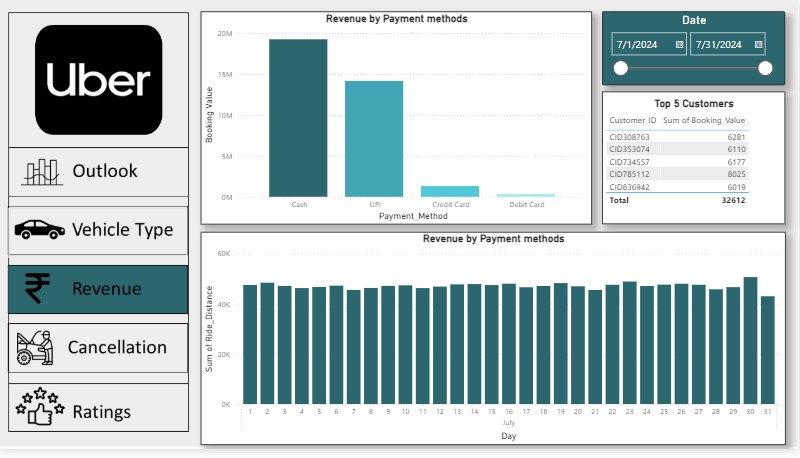

The page's visual inventory and layout, read from the dashboard file:
{"tool":"powerbi","page":{"name":"Revenue","canvas":[1280,720],"ordinal":2},"visuals":[{"type":"actionButton","box":[13.7,333.1,286,80.6],"z":0},{"type":"actionButton","box":[13.7,521.7,286,80.6],"z":1000},{"type":"actionButton","box":[15.2,614.5,286,80.6],"z":2000},{"type":"actionButton","box":[15.2,237.3,286,80.6],"z":3000},{"type":"slicer","title":"Date","fields":{"Values":["Bookings-100000-Rows - July.Date"]},"box":[965,18.3,293.3,118.3],"z":4000},{"type":"clusteredColumnChart","title":"Revenue by Payment methods","fields":{"Category":["Bookings-100000-Rows - July.Payment_Method"],"Y":["Sum(Bookings-100000-Rows - July.Booking_Value)"]},"box":[321.7,18.3,626.7,341.7],"z":5000},{"type":"tableEx","title":"Top 5 Customers","fields":{"Values":["Bookings-100000-Rows - July.Customer_ID","Sum(Bookings-100000-Rows - July.Booking_Value)"]},"box":[965.7,147.1,292.9,212.9],"z":6000},{"type":"clusteredColumnChart","title":"Revenue by Payment methods","fields":{"Y":["Sum(Bookings-100000-Rows - July.Ride_Distance)"],"Category":["Bookings-100000-Rows - July.Date.Variation.Date Hierarchy.Month","Bookings-100000-Rows - July.Date.Variation.Date Hierarchy.Day"]},"box":[321.4,371.4,937.1,341.4],"z":7000}]}

Visuals, with their boxes in screenshot pixels (x1, y1, x2, y2), scaled from the page's 1280x720 canvas onto the 800x458 screenshot:
actionButton: <bbox>9, 212, 187, 263</bbox>
actionButton: <bbox>9, 332, 187, 383</bbox>
actionButton: <bbox>10, 391, 188, 442</bbox>
actionButton: <bbox>10, 151, 188, 202</bbox>
"Date" slicer: <bbox>603, 12, 786, 87</bbox>
"Revenue by Payment methods" clusteredColumnChart: <bbox>201, 12, 593, 229</bbox>
"Top 5 Customers" tableEx: <bbox>604, 94, 787, 229</bbox>
"Revenue by Payment methods" clusteredColumnChart: <bbox>201, 236, 787, 453</bbox>
